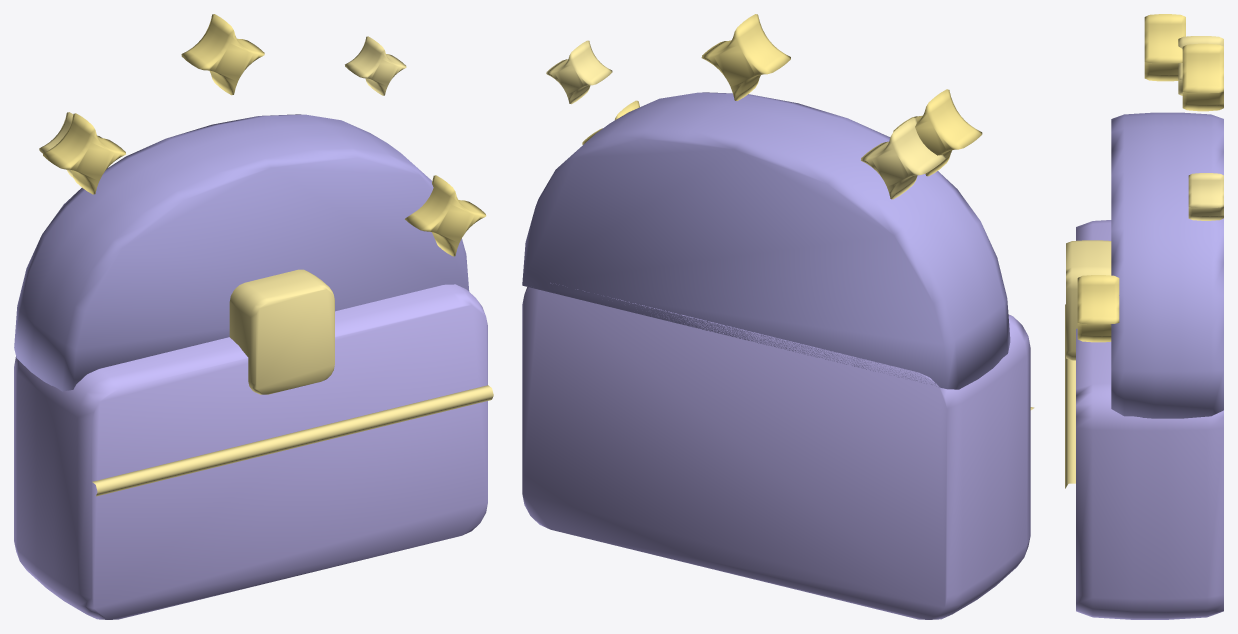
Rendered from decor_4_star.glb.
3 views of the same model, side by side, from view 1: azimuth 30°, elevation 25°; view 2: azimuth 150°, elevation 25°; view 3: azimuth 270°, elevation 25° (orthographic). The views are drawn at different scales.
Visible parts, largest first — view 1: decor_4_star; view 2: decor_4_star; view 3: decor_4_star.
Part boxes in pixels (bbox=[...]): decor_4_star: bbox=[14, 14, 493, 619]; decor_4_star: bbox=[522, 14, 1034, 619]; decor_4_star: bbox=[1065, 14, 1223, 619].
Size of the model in its own units: 9.35 by 11.23 by 3.29.
